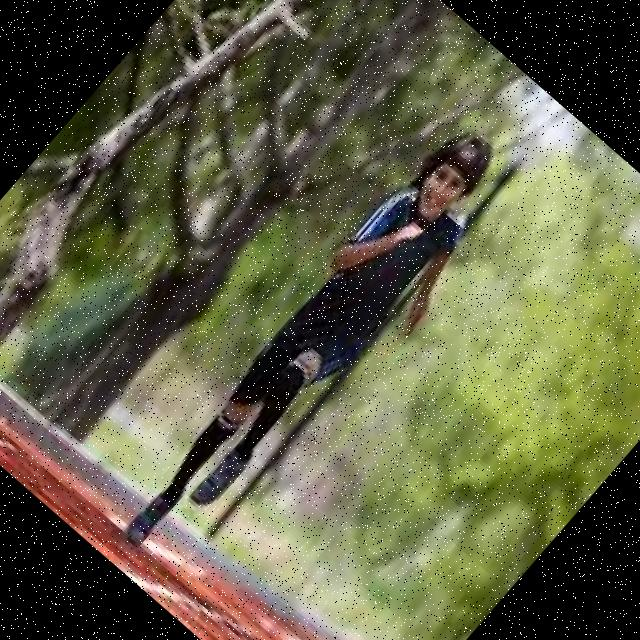Person: (106, 115, 538, 590)
